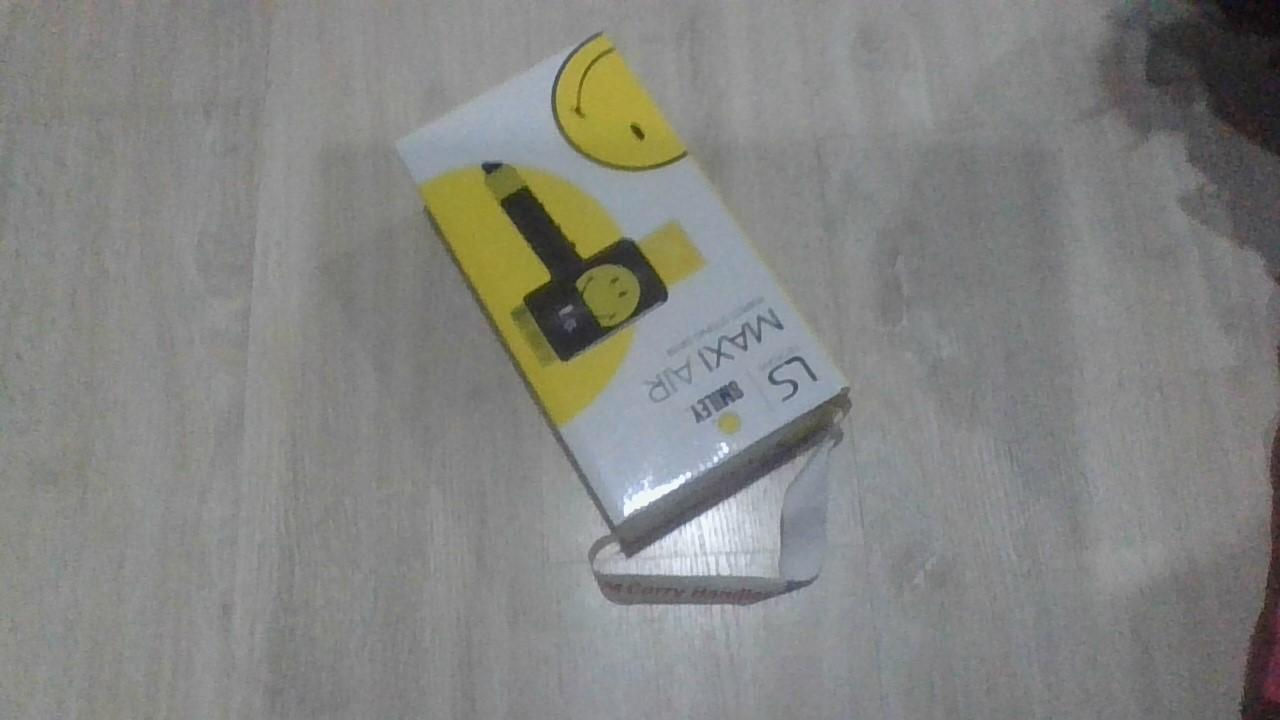IRON: (390, 27, 855, 603)
